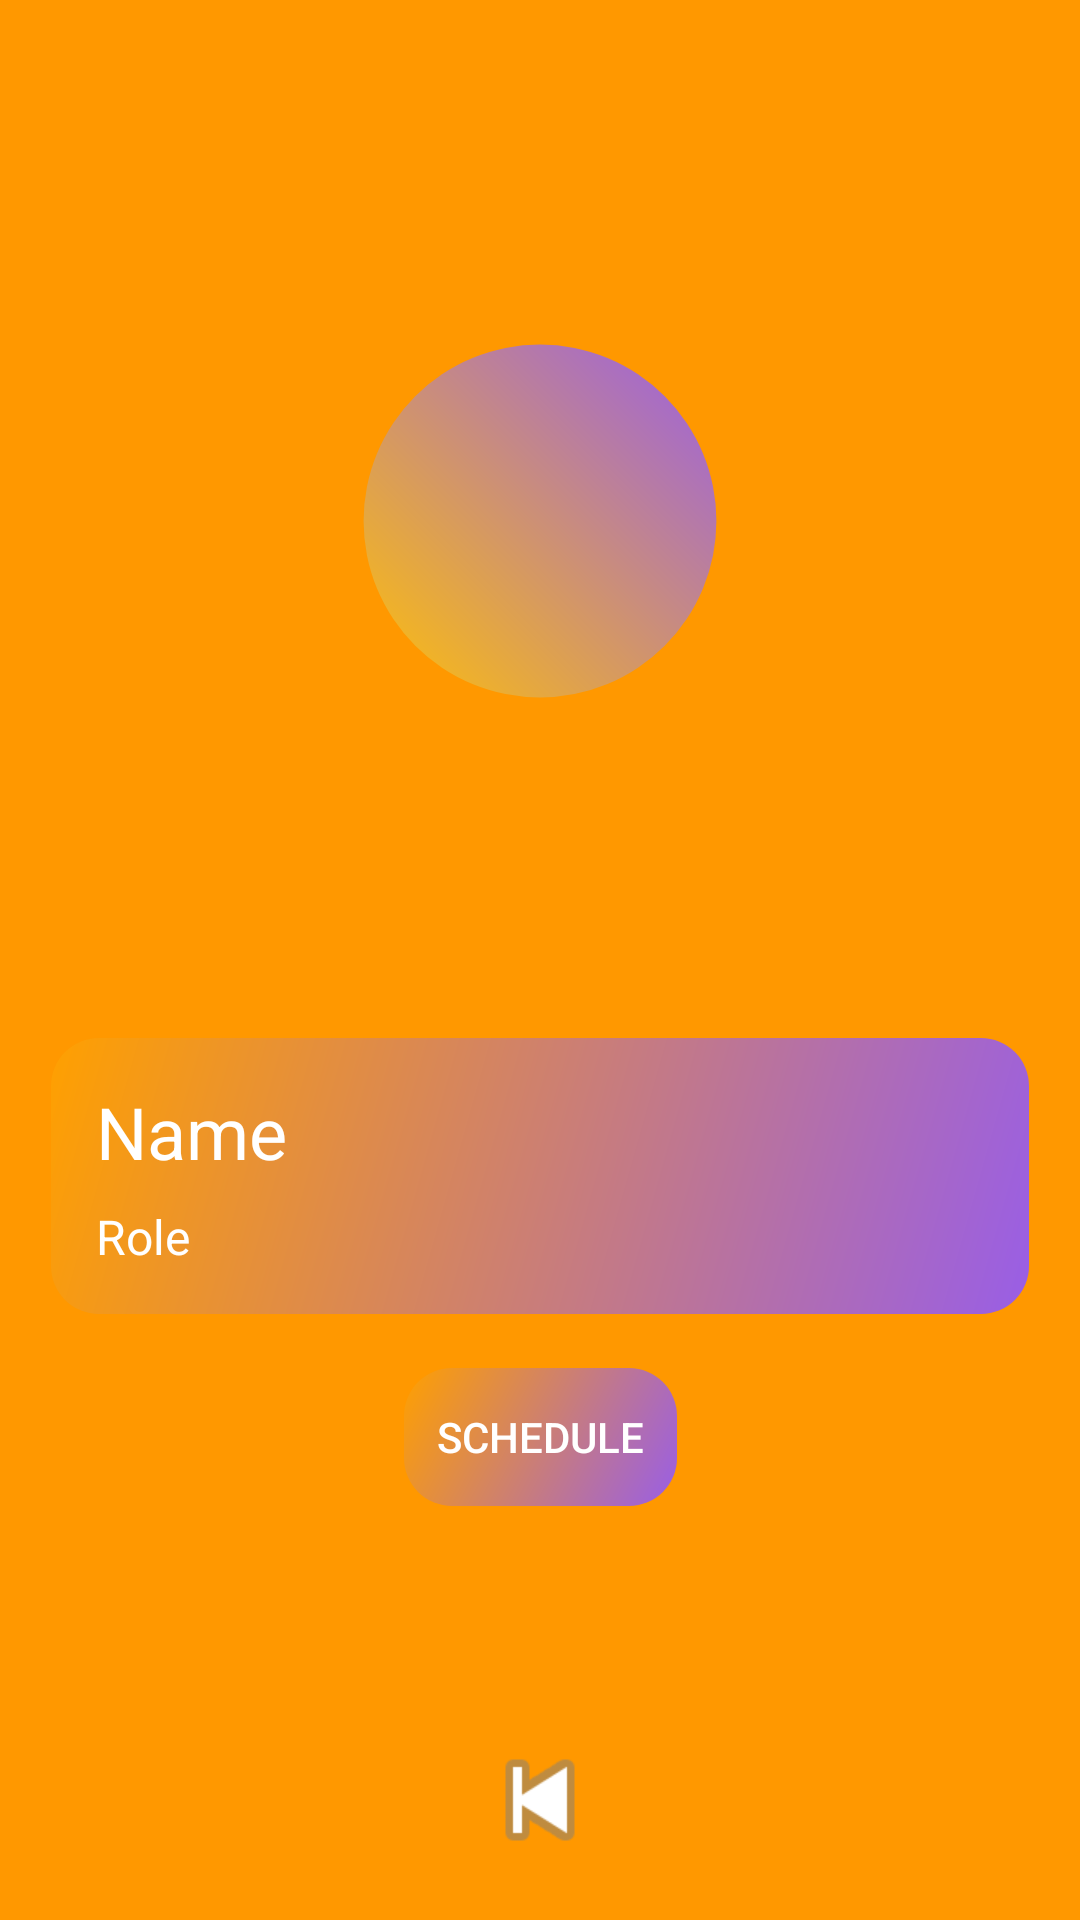

Icon bounding boxes for this 1080×1920 phone screenshot, format (x1, y1, x2, y2):
Back: (505, 1759, 575, 1841)
